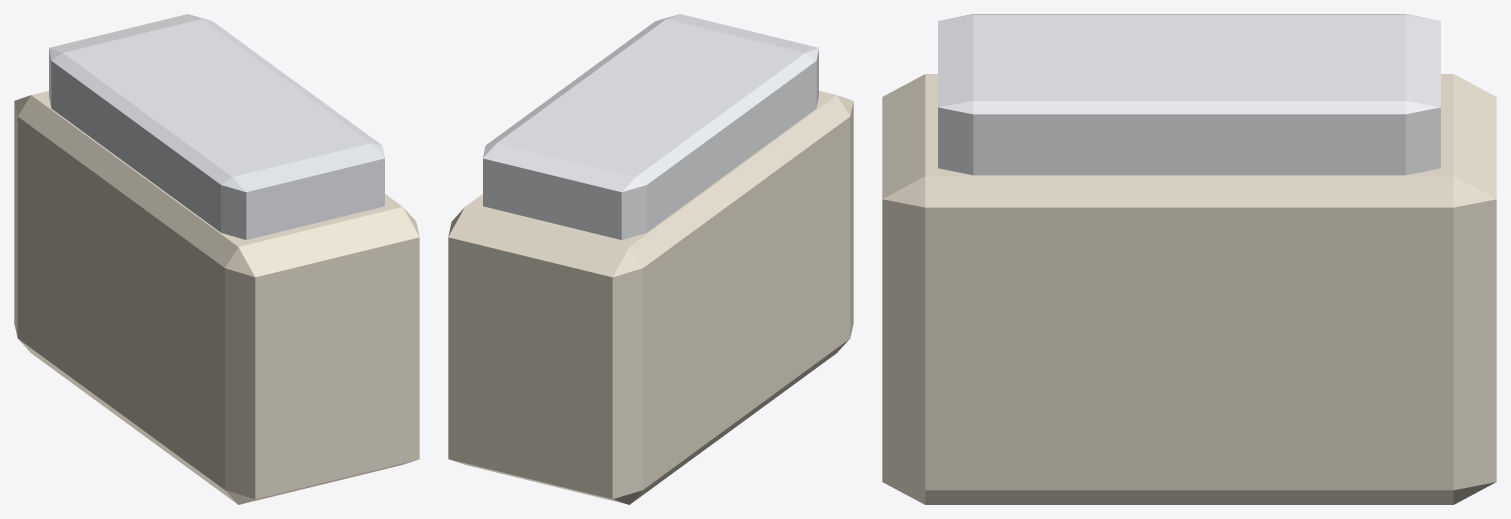
File: b17_lace_up_hiking_boot.glb
3 renders of one model, left to right at view 1: azimuth 30°, elevation 25°; view 2: azimuth 150°, elevation 25°; view 3: azimuth 270°, elevation 25°, orthographic. The views are drawn at different scales.
Parts seen in each view (by area): view 1: b17_lace_up_hiking_boot; view 2: b17_lace_up_hiking_boot; view 3: b17_lace_up_hiking_boot.
Boxes of the visible parts, left/top/right/bottom form: b17_lace_up_hiking_boot: left=14, top=14, right=419, bottom=504; b17_lace_up_hiking_boot: left=448, top=14, right=853, bottom=504; b17_lace_up_hiking_boot: left=882, top=14, right=1496, bottom=504.
Size of the model in its own units: 0.13 by 0.202 by 0.284.
